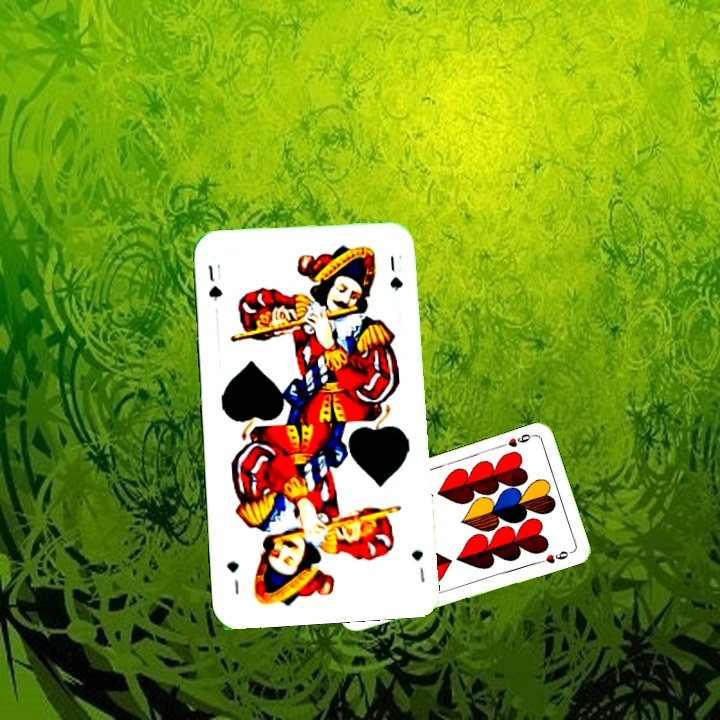GU: (204, 261, 225, 304), (407, 546, 427, 586)
H9: (498, 430, 537, 450)
